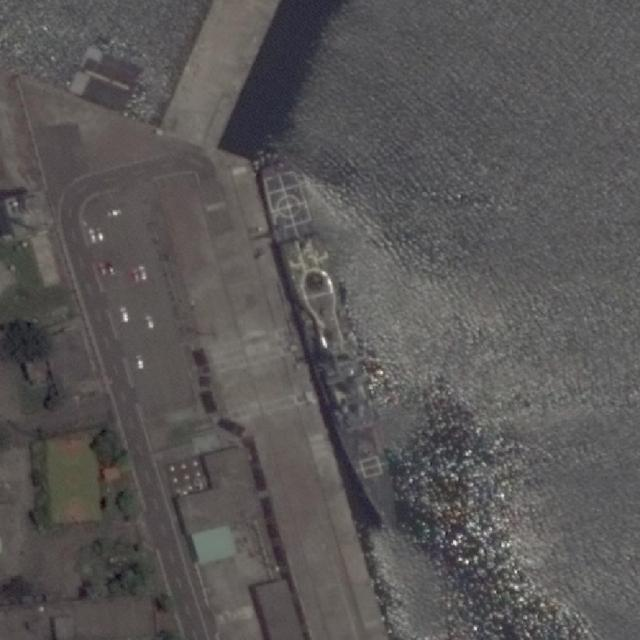Frigate: (256, 158, 413, 544)
